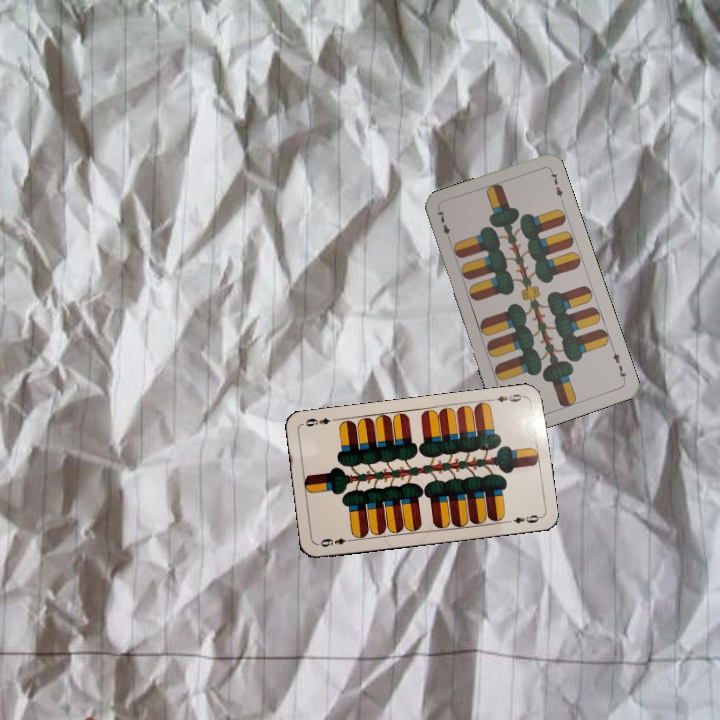E7: (608, 344, 629, 384), (433, 205, 453, 245)
E9: (314, 534, 355, 549), (487, 390, 527, 405)
